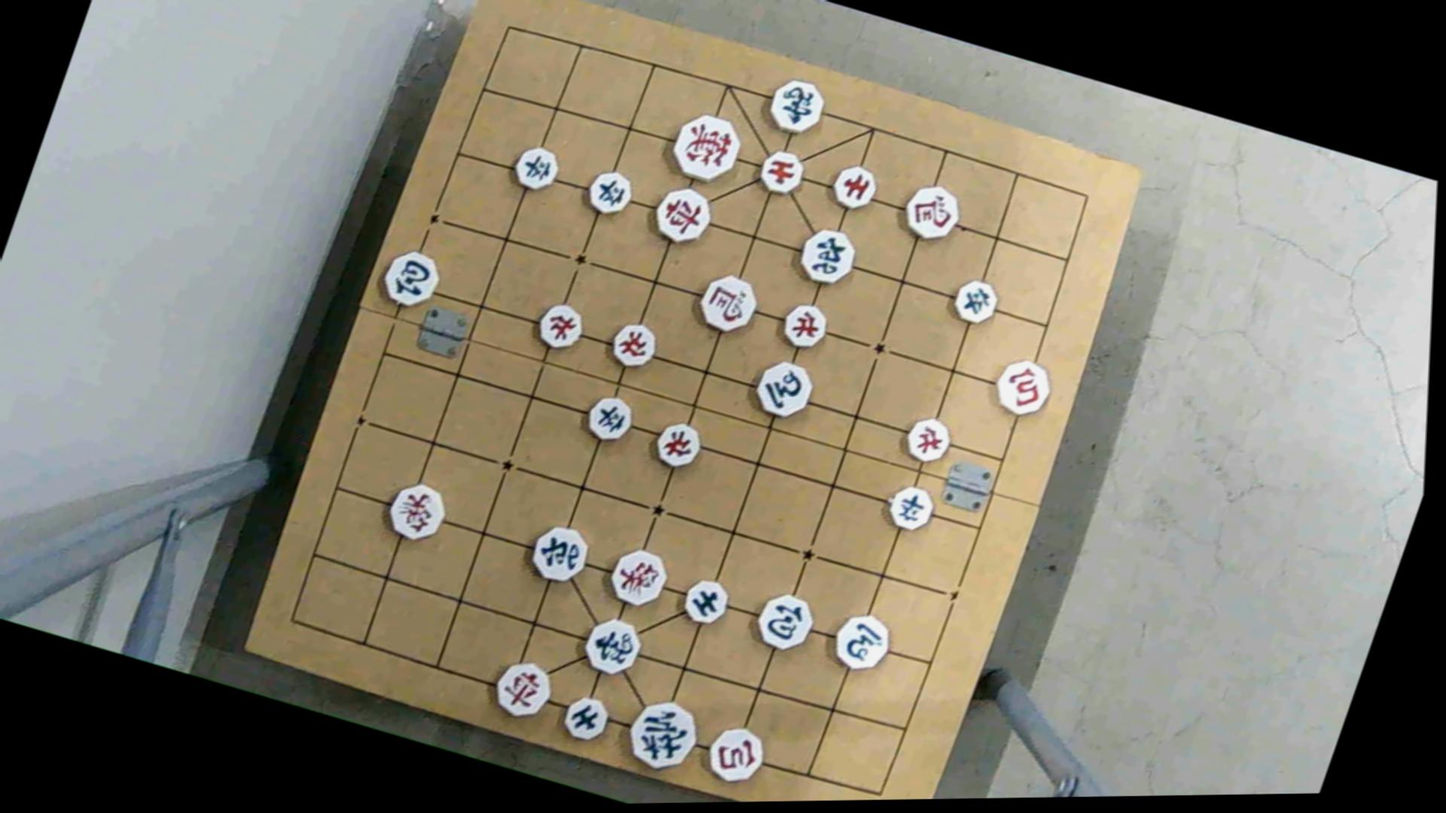cha_green: (523, 521, 596, 586), (794, 223, 861, 288)
cha_red: (487, 658, 560, 722), (648, 183, 718, 246)
jol_green: (579, 394, 638, 446), (880, 483, 938, 534), (946, 276, 1003, 327), (506, 142, 562, 193), (580, 168, 636, 218)
jol_red: (648, 418, 708, 470), (531, 300, 590, 352), (774, 300, 833, 352), (898, 415, 956, 466), (605, 321, 658, 370)
ma_green: (822, 609, 894, 674), (749, 356, 819, 419)
ma_red: (691, 269, 764, 336), (894, 179, 969, 244)
po_green: (746, 588, 819, 653), (374, 245, 447, 309)
po_red: (698, 722, 772, 787), (984, 355, 1057, 420)
sa_green: (554, 692, 616, 747), (676, 576, 734, 628)
sa_red: (825, 161, 881, 214), (752, 144, 807, 197)
sang_green: (575, 616, 645, 681), (764, 75, 828, 136)
sang_red: (380, 479, 451, 544), (602, 546, 673, 610)
wang_green: (618, 697, 705, 775)
wang_red: (664, 110, 746, 186)
